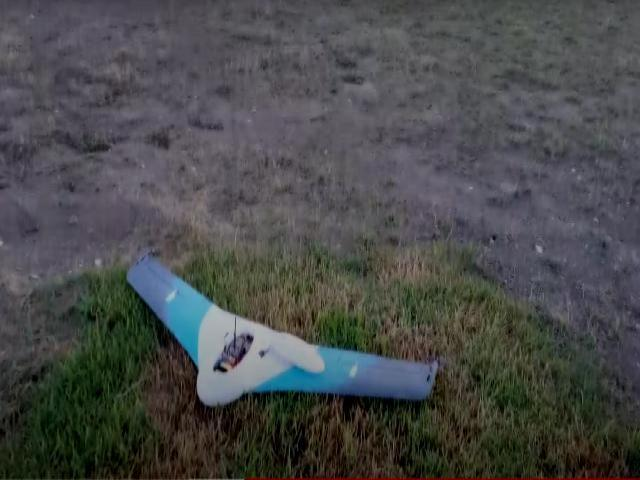iha: (129, 253, 450, 408)
